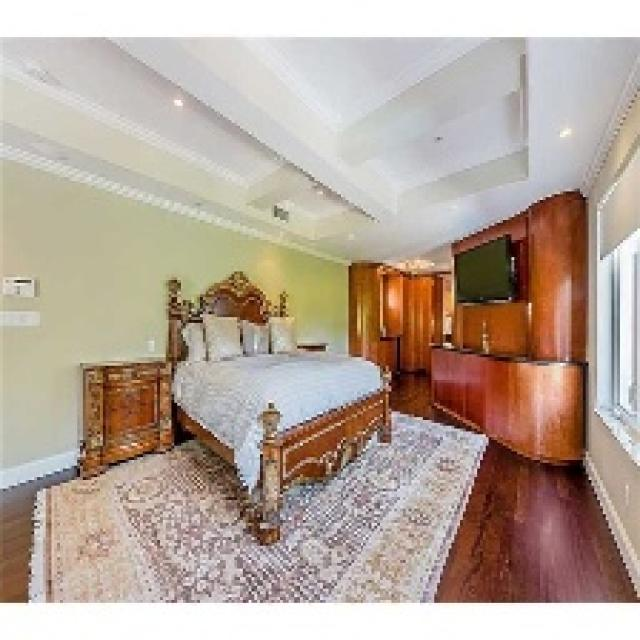Bed: (163, 268, 391, 543)
